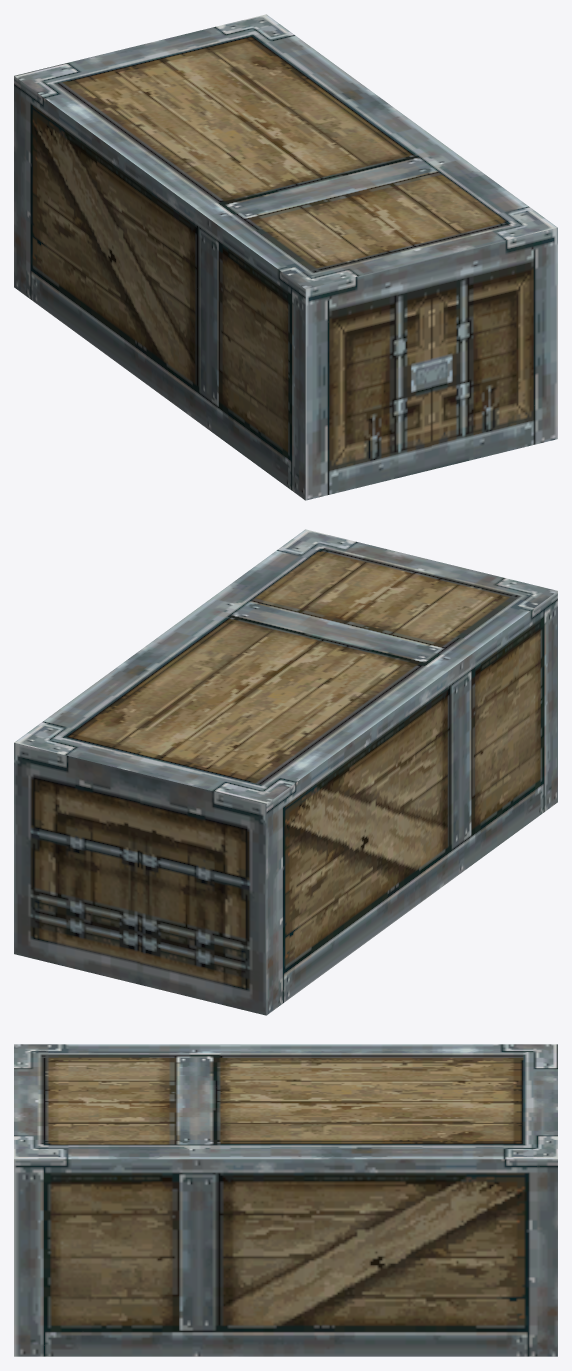
Rendered from nml-bd008.glb.
The picture shows the model from 3 angles, top to bottom: view 1: azimuth 30°, elevation 25°; view 2: azimuth 150°, elevation 25°; view 3: azimuth 270°, elevation 25°; orthographic projection. The views are drawn at different scales.
Visible parts, largest first — view 1: geom_node_0; view 2: geom_node_0; view 3: geom_node_0.
Part boxes in pixels (x1,y1,x2,y2): geom_node_0: (14,14,557,500); geom_node_0: (14,529,557,1015); geom_node_0: (14,1044,557,1356).
Size of the model in its own units: 1.87 by 1.5 by 3.75.
1 material, 1 textured.
